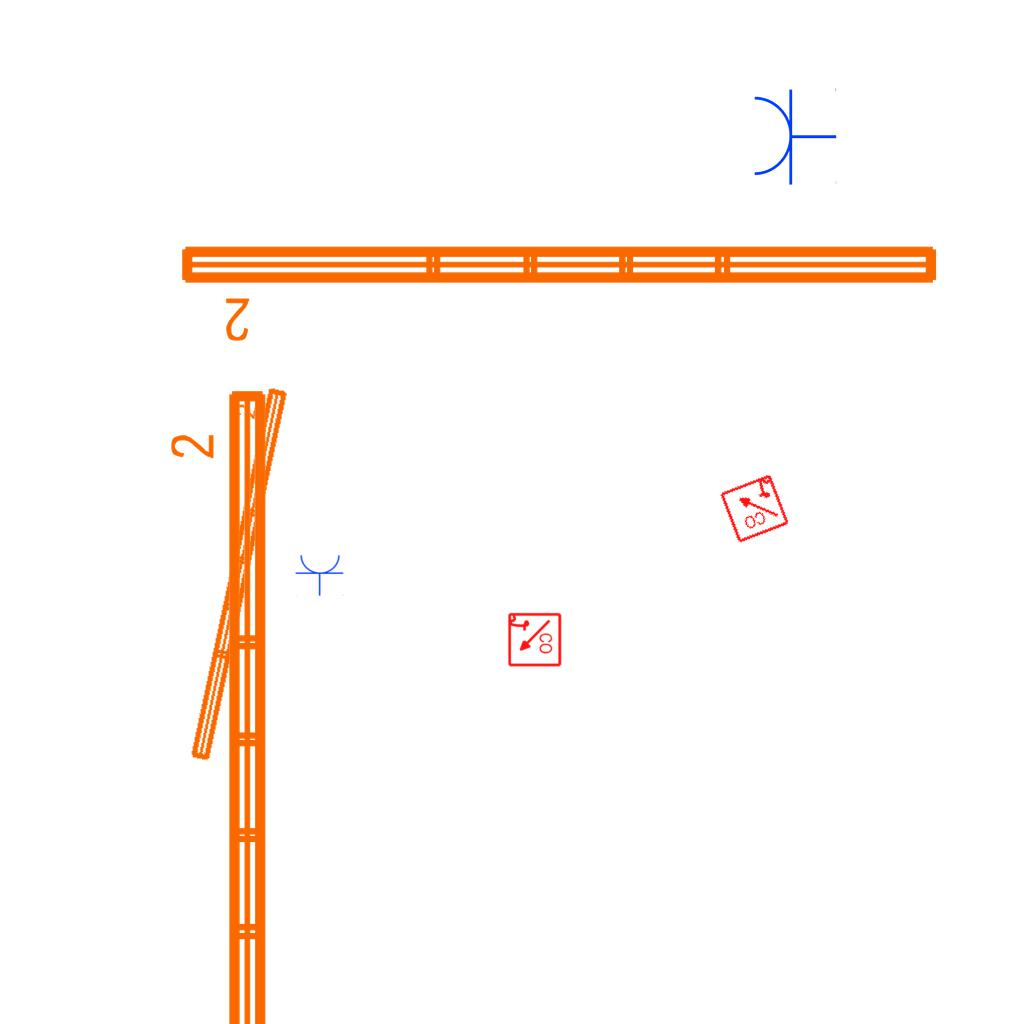Ambulanz_Pendelleuchte_LED: (173, 234, 947, 346), (166, 382, 278, 1024), (158, 376, 295, 768)
ROA_Rauchmelder_optisch_mit_Signalgeber_(Sockelsirene): (717, 471, 791, 545), (506, 612, 562, 668)
Schukosteckdose_einfach: (750, 86, 837, 186), (295, 553, 345, 596)
